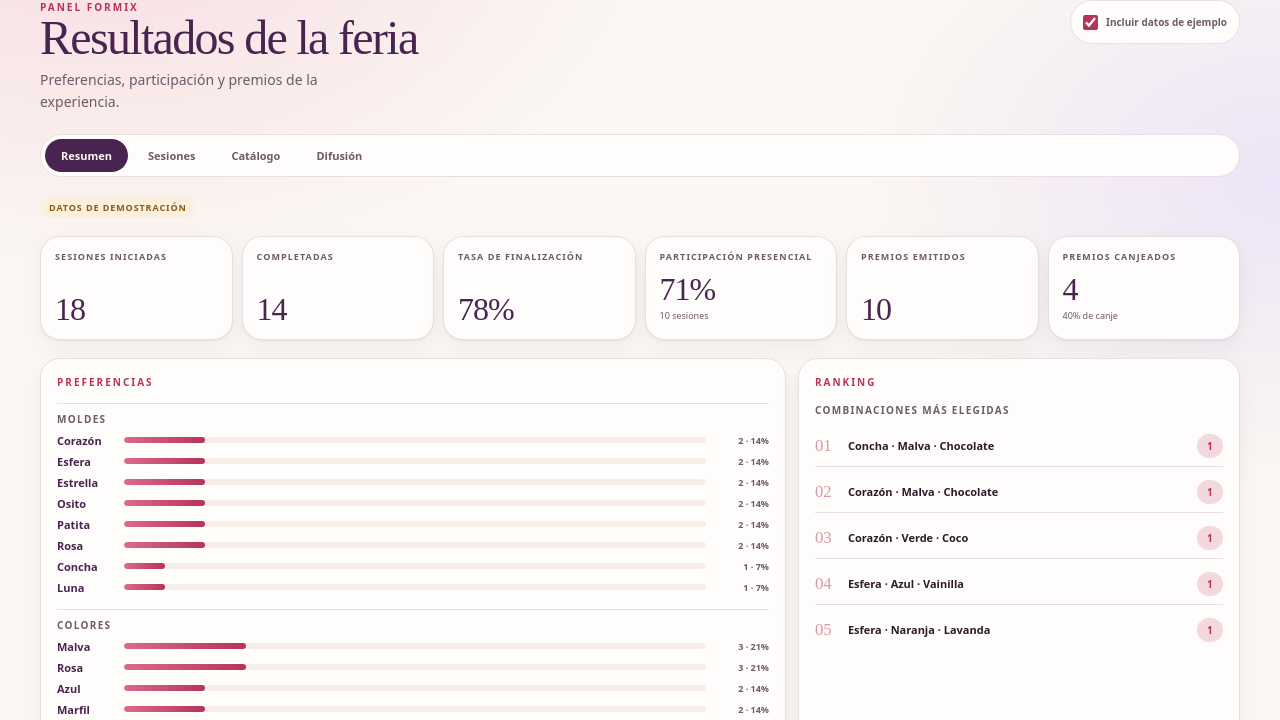
it: unchecking demo changes the summary to real-only data
Click the checkbox labelled "Incluir datos de ejemplo" at (1090, 22), box left=1083, top=14, right=1098, bottom=30
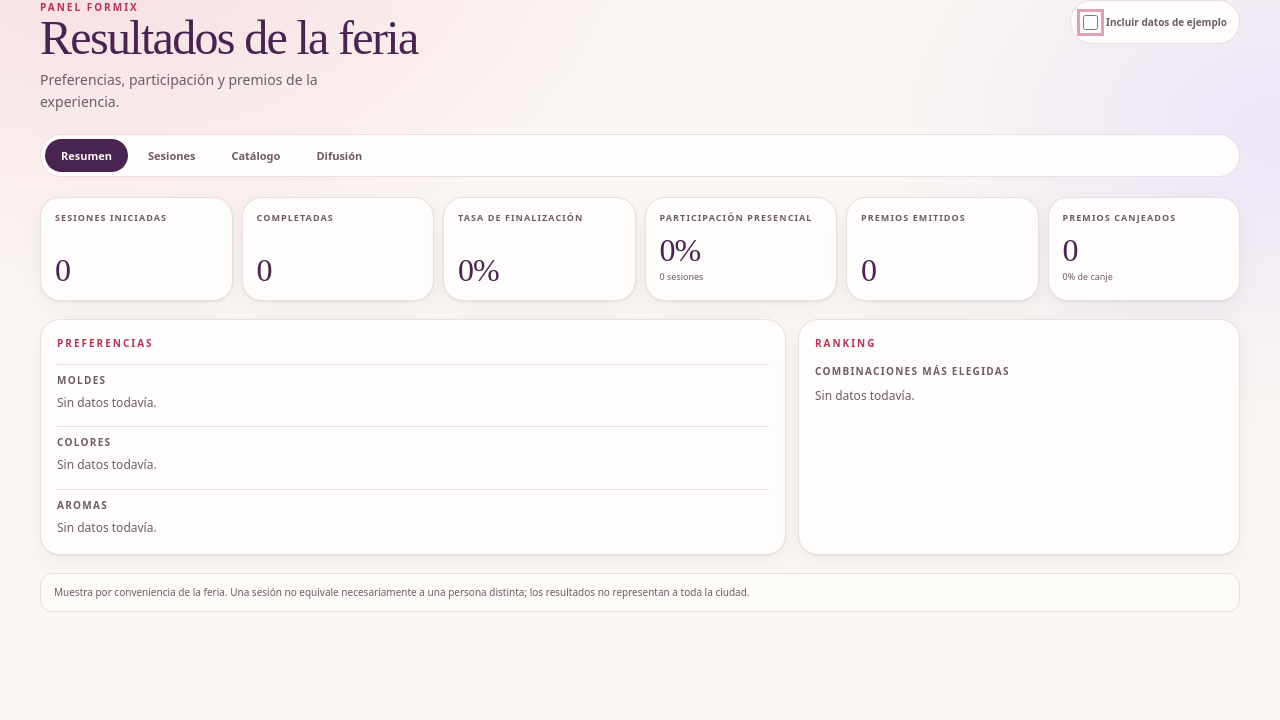
Result: the text "0" below "Sesiones iniciadas" is shown at left=55, top=252, right=70, bottom=288
